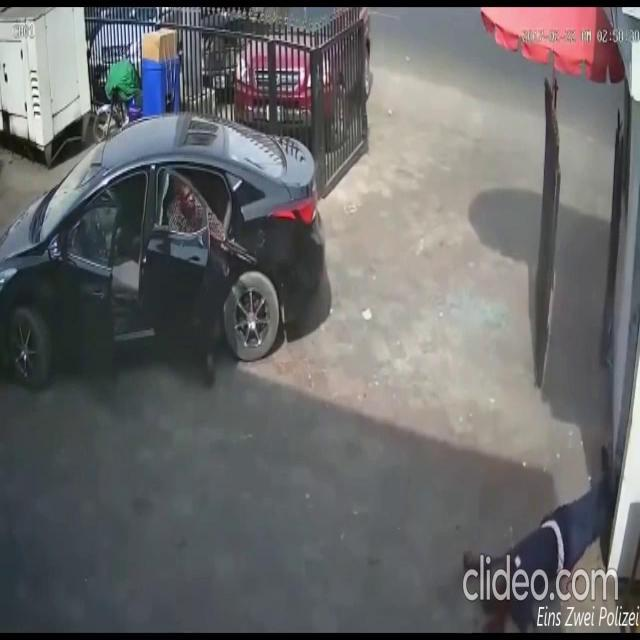pistol: (194, 223, 261, 281)
